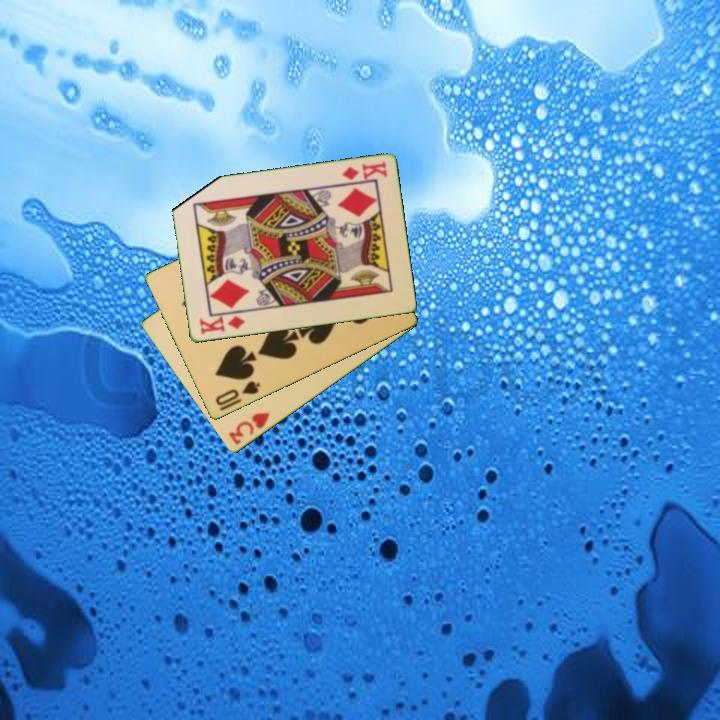10s: (212, 377, 263, 409)
3h: (225, 409, 272, 448)
Kd: (195, 312, 248, 338), (338, 158, 390, 183)
